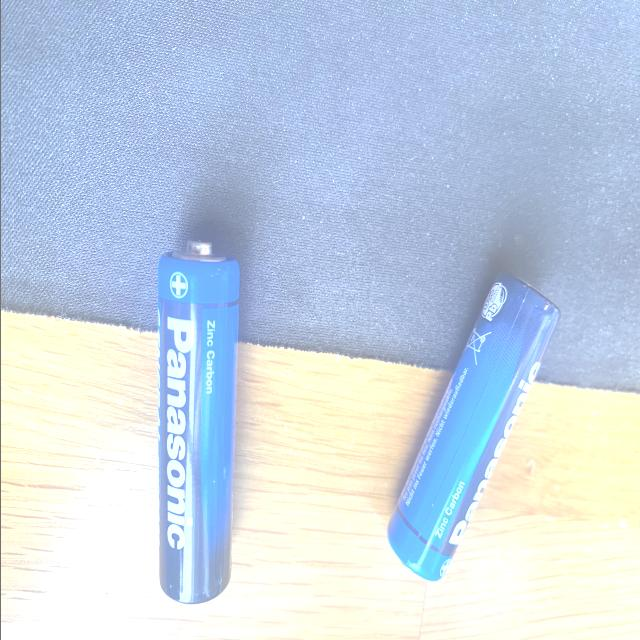AA: (385, 272, 561, 582), (156, 239, 240, 605)
